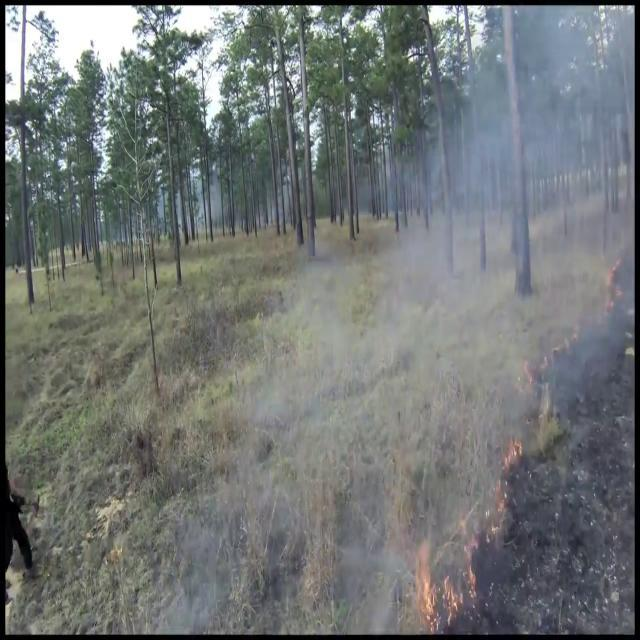Fire: (413, 536, 464, 630)
Smoke: (218, 7, 632, 621)
